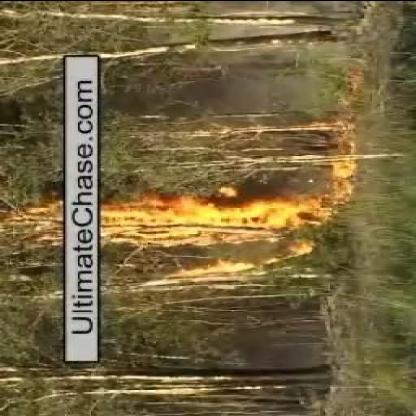foggia-v2-map80-epoch100 - v1 4323: (102, 199, 309, 237), (32, 202, 62, 223)
